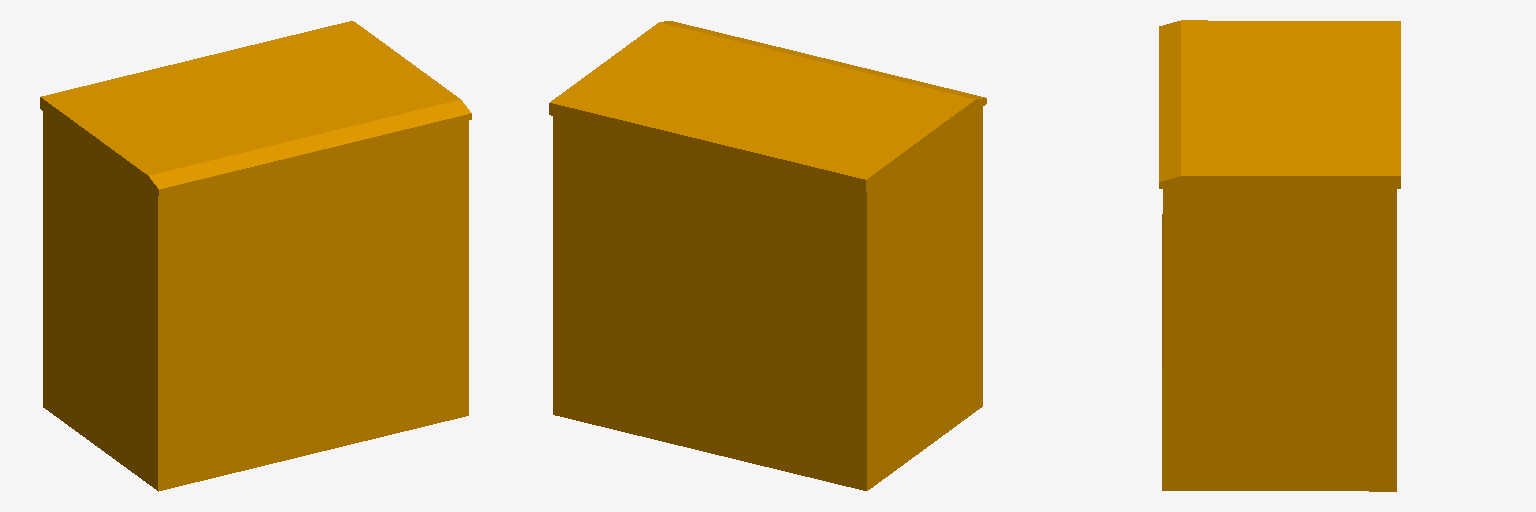
robot.urdf — cabinet_with_desktop:
<?xml version="1.0"?>
<robot name="cabinet_with_desktop">
  <link name="cabinet_with_desktop">
    <inertial>
      <origin xyz="0 0 -0.40" rpy="0 0 0" />
      <mass value="50"/>
      <inertia ixx="0.1" ixy="0" ixz="0" iyy="0.1" iyz="0" izz="0.1"/>
    </inertial>
    <visual>
      <origin xyz="0 0 .718" rpy="1.57 0 0" />
      <geometry>
        <mesh filename="meshes/visual/cabinet_with_desktop.obj" scale="1.00"/>
      </geometry>
    </visual>
    <collision>
      <origin xyz="0 0 .718" rpy="1.57 0 0" />
      <geometry>
        <mesh filename="meshes/collision/cabinet_with_desktop.obj" scale="1.00"/>
      </geometry>
    </collision>
  </link>
</robot>

--- What the picture shows (computed from the rendered views, not written in the file) ---
The picture shows the robot from 3 angles, left to right: view 1: azimuth 30°, elevation 25°; view 2: azimuth 150°, elevation 25°; view 3: azimuth 270°, elevation 25°; orthographic projection.
Model cabinet_with_desktop with 1 links and 0 joints (none), rooted at cabinet_with_desktop, posed every joint at zero.
Links seen in each view (by area): view 1: cabinet_with_desktop; view 2: cabinet_with_desktop; view 3: cabinet_with_desktop.
Link boxes in pixels (box(x1,y1,x2,y2)): cabinet_with_desktop: box(40, 21, 471, 491); cabinet_with_desktop: box(549, 21, 986, 490); cabinet_with_desktop: box(1159, 20, 1400, 491).
Bounding box of the posed robot: 0.76 × 0.5 × 0.7189 m (x, y, z).
1 mesh visuals loaded from 1 distinct referenced files (1 OBJ).